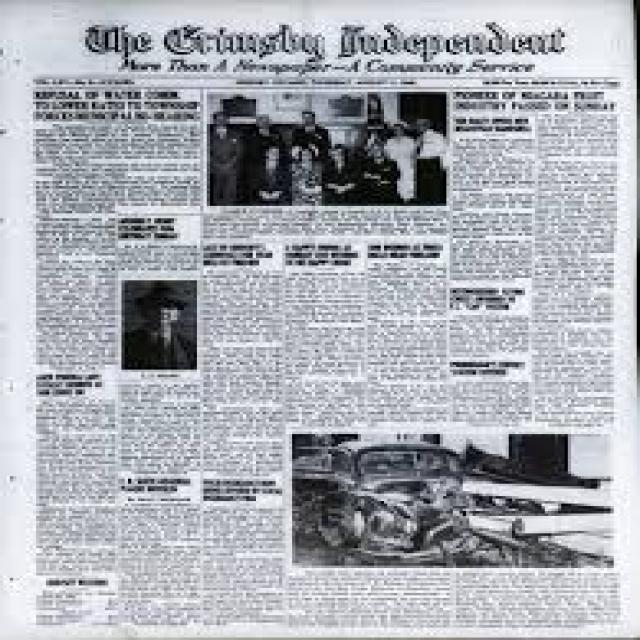paper: (5, 19, 632, 640)
